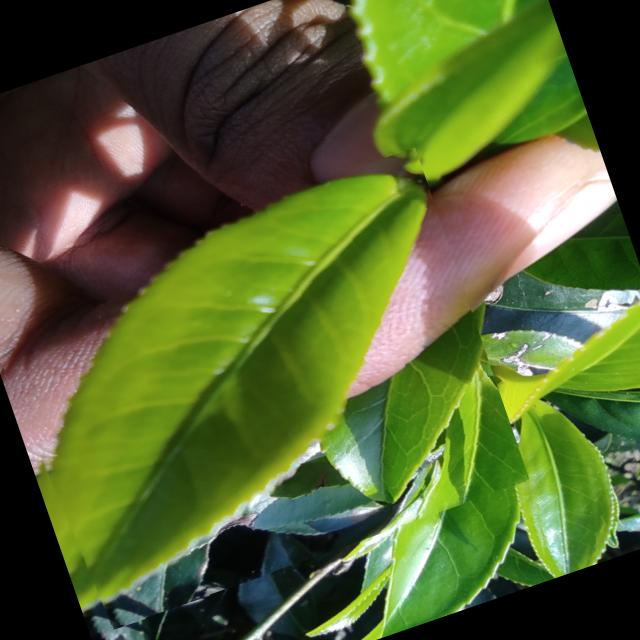Category B(2-4 days): (0, 146, 531, 636)
